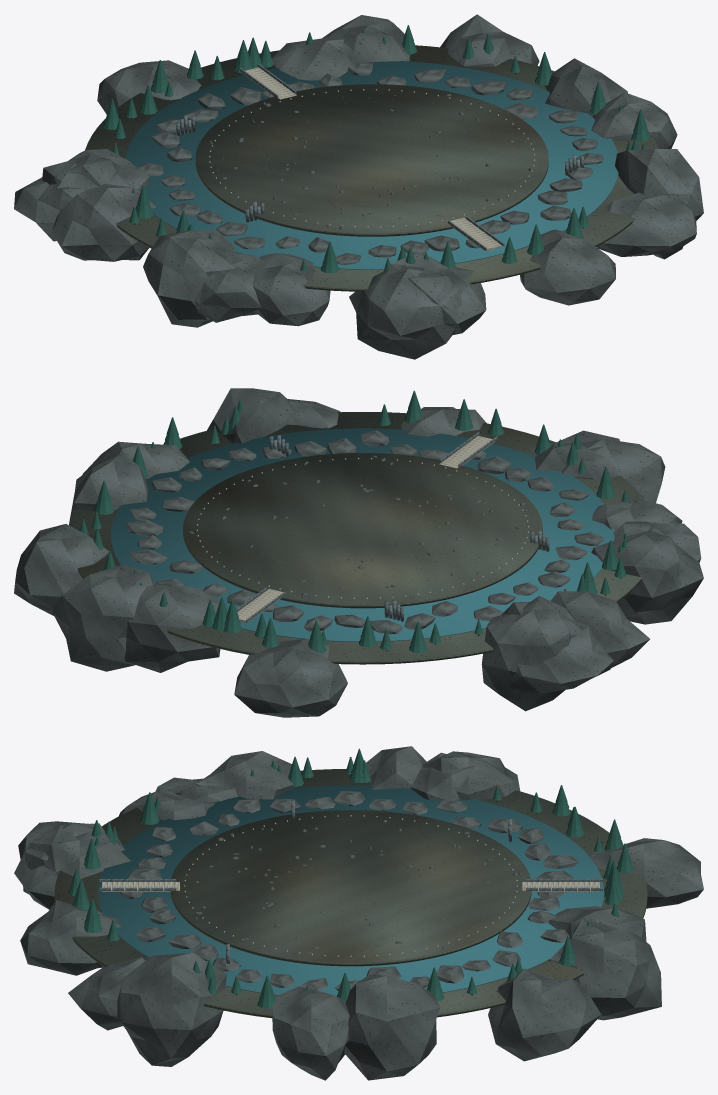
File: castle-ground.glb
3 views of the same model, one above another, from view 1: azimuth 30°, elevation 25°; view 2: azimuth 150°, elevation 25°; view 3: azimuth 270°, elevation 25° (orthographic). The views are drawn at different scales.
Parts seen in each view (by area): view 1: Terrain_Outer rock, Terrain_Heather earth, Terrain_River blue, Terrain_Pine canopy, Terrain_Carved limestone, Terrain_Weathered castle stone 2; view 2: Terrain_Outer rock, Terrain_Heather earth, Terrain_River blue, Terrain_Pine canopy, Terrain_Carved limestone, Terrain_Weathered castle stone 2; view 3: Terrain_Outer rock, Terrain_Heather earth, Terrain_River blue, Terrain_Pine canopy, Terrain_Carved limestone, Terrain_Weathered castle stone 2.
Part boxes in pixels (x1,y1,x2,y2): Terrain_Outer rock: (14,14,703,359); Terrain_Heather earth: (85,45,658,291); Terrain_River blue: (125,61,618,269); Terrain_Pine canopy: (103,25,650,273); Terrain_Carved limestone: (209,67,535,250); Terrain_Weathered castle stone 2: (184,63,576,250); Terrain_Outer rock: (14,388,703,717); Terrain_Heather earth: (69,412,655,664); Terrain_River blue: (111,428,614,641); Terrain_Pine canopy: (79,390,628,653); Terrain_Carved limestone: (196,436,528,622); Terrain_Weathered castle stone 2: (236,432,541,622); Terrain_Outer rock: (14,746,703,1080); Terrain_Heather earth: (54,769,647,1018); Terrain_River blue: (98,785,604,996); Terrain_Pine canopy: (68,748,633,1008); Terrain_Carved limestone: (102,815,599,956); Terrain_Weathered castle stone 2: (99,800,602,950).
Size of the model in its own units: 95.41 by 16.7 by 95.4.
Materials: 11 (7 with a texture image).
